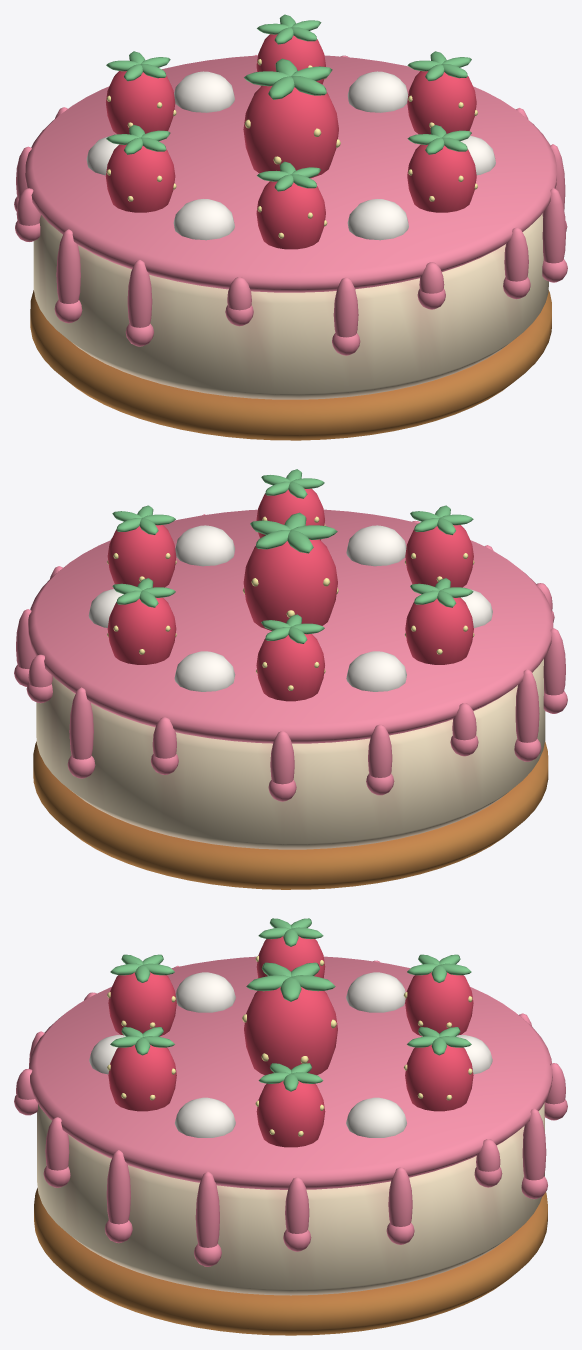
The model's file is cheesefull.glb.
3 views of the same model, one above another, from view 1: azimuth 30°, elevation 25°; view 2: azimuth 150°, elevation 25°; view 3: azimuth 270°, elevation 25° (orthographic).
Parts seen in each view (by area): view 1: cf48fa8, cake.001, cef5470, crust, cfffaf3, c7cc68a, cfff1a8; view 2: cf48fa8, cake.001, cef5470, crust, cfffaf3, c7cc68a, cfff1a8; view 3: cf48fa8, cake.001, cef5470, crust, cfffaf3, c7cc68a, cfff1a8.
Boxes of the visible parts, bbox=[...] form: cf48fa8: bbox=[14, 55, 567, 355]; cake.001: bbox=[33, 213, 548, 399]; cef5470: bbox=[105, 34, 476, 249]; crust: bbox=[30, 290, 551, 440]; cfffaf3: bbox=[86, 71, 495, 240]; c7cc68a: bbox=[106, 14, 471, 191]; cfff1a8: bbox=[106, 59, 477, 238]; cf48fa8: bbox=[14, 509, 567, 801]; cake.001: bbox=[36, 659, 545, 849]; cef5470: bbox=[107, 488, 473, 701]; crust: bbox=[33, 741, 548, 889]; cfffaf3: bbox=[88, 525, 492, 691]; c7cc68a: bbox=[112, 469, 473, 643]; cfff1a8: bbox=[107, 516, 474, 690]; cf48fa8: bbox=[14, 956, 567, 1266]; cake.001: bbox=[37, 1102, 544, 1295]; cef5470: bbox=[108, 936, 473, 1147]; crust: bbox=[34, 1188, 547, 1335]; cfffaf3: bbox=[89, 972, 492, 1137]; c7cc68a: bbox=[110, 918, 471, 1091]; cfff1a8: bbox=[107, 956, 472, 1136].
Bounding box in the file's own units: 0.905 × 0.465 × 0.9057.
